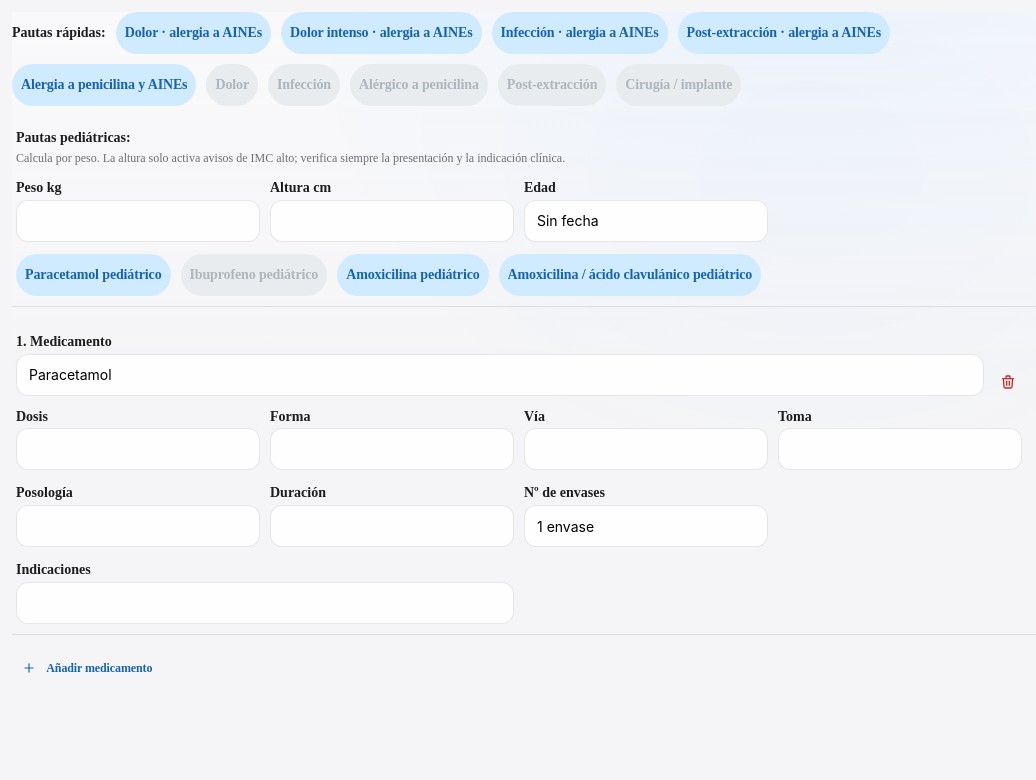
it: quick alternatives do not add a second paracetamol-containing medicine
Step 1. Click the button "Dolor intenso · alergia a AINEs" → [381, 33], box [281, 12, 482, 54]
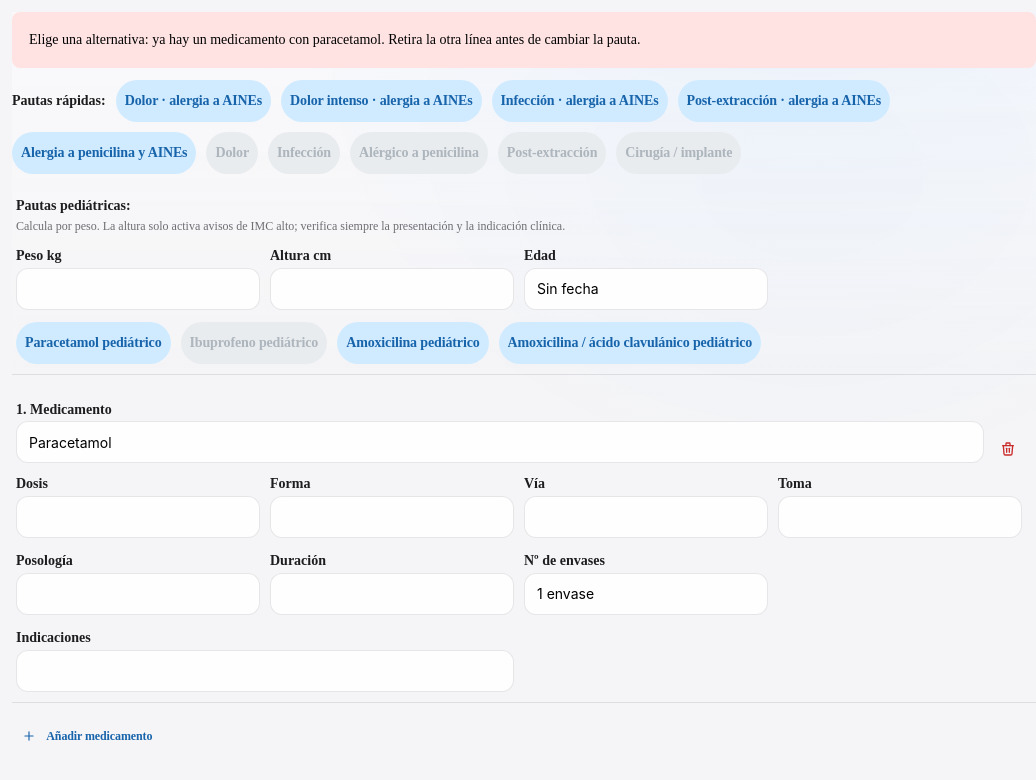
Result: the message shows "alternativa" at [29, 32, 640, 47]
